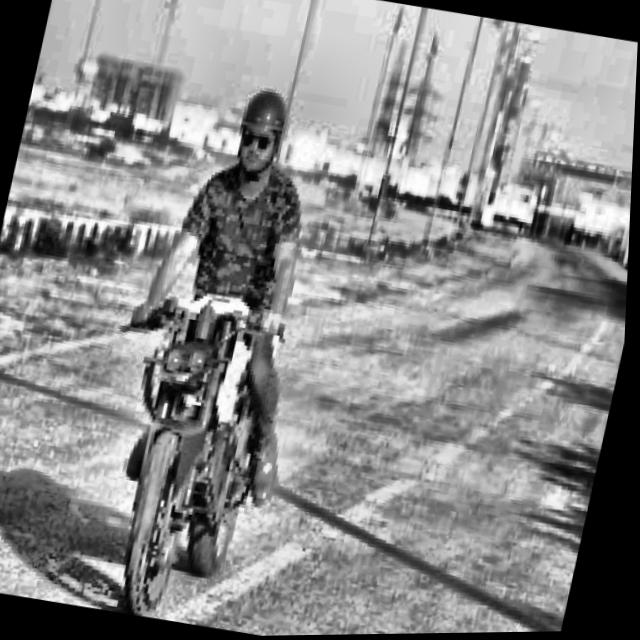motorcycle: (69, 258, 353, 639)
